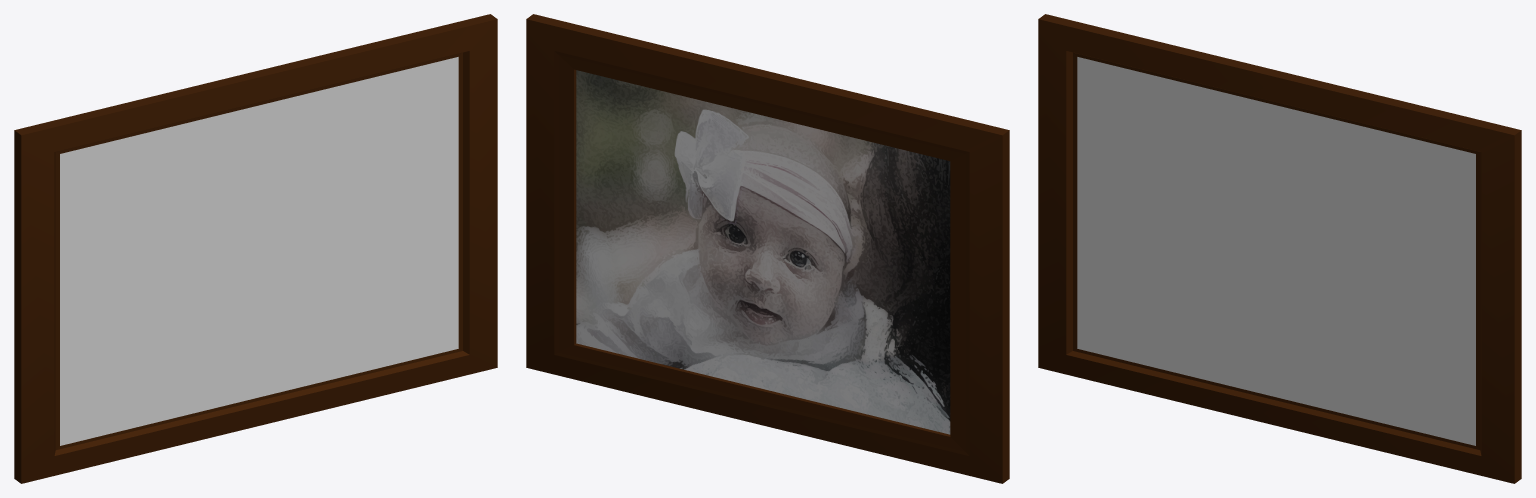
The model's file is PhotoFrameBaby.fbx.
3 views of the same model, side by side, from view 1: azimuth 30°, elevation 25°; view 2: azimuth 150°, elevation 25°; view 3: azimuth 330°, elevation 25° (orthographic).
Visible parts, largest first — view 1: GlassFrame1, PhotoFrame; view 2: Photo, PhotoFrame; view 3: GlassFrame1, PhotoFrame.
Part boxes in pixels (x1,y1,x2,y2): GlassFrame1: (60,57,458,445); PhotoFrame: (14,14,497,483); Photo: (576,70,950,434); PhotoFrame: (526,14,1009,483); GlassFrame1: (1077,57,1475,445); PhotoFrame: (1038,14,1521,483).
Size of the model in its own units: 1.19 by 0.8327 by 0.0532.
Materials: 3 (1 with a texture image).
